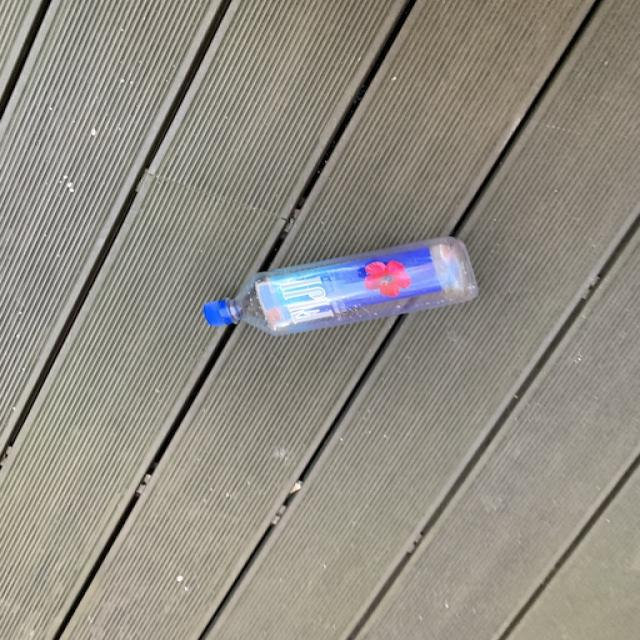Plastic: (204, 237, 479, 335)
